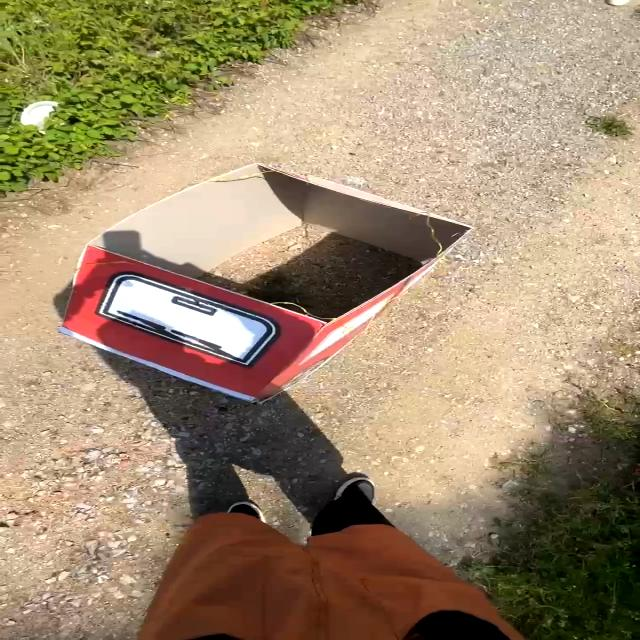red_car: (18, 126, 544, 438)
